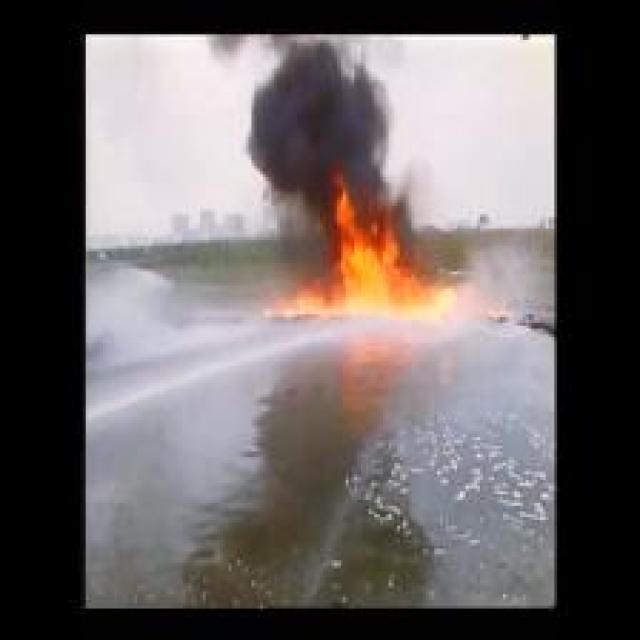Fire: (272, 175, 454, 318)
